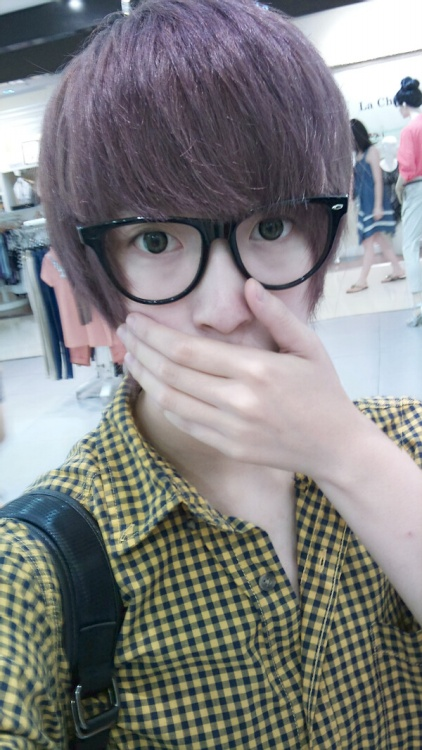face: (112, 143, 316, 428)
